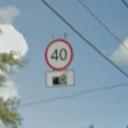speed_limit_40: (43, 39, 75, 71)
